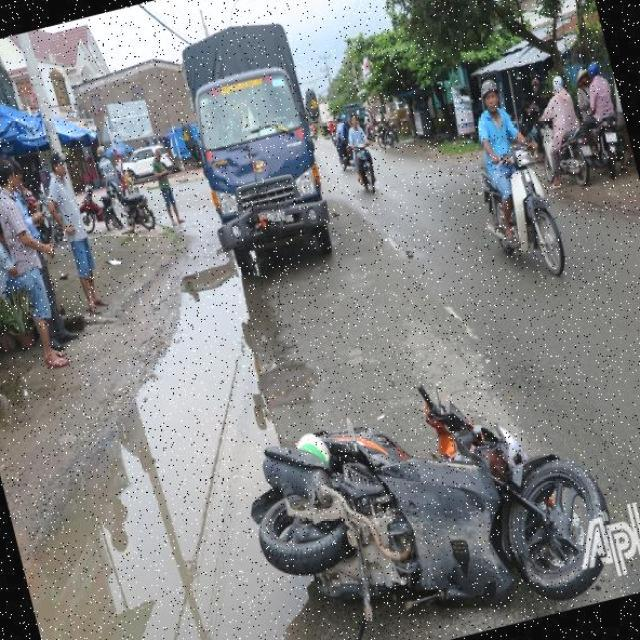accident: (206, 306, 640, 640), (184, 82, 341, 282)
